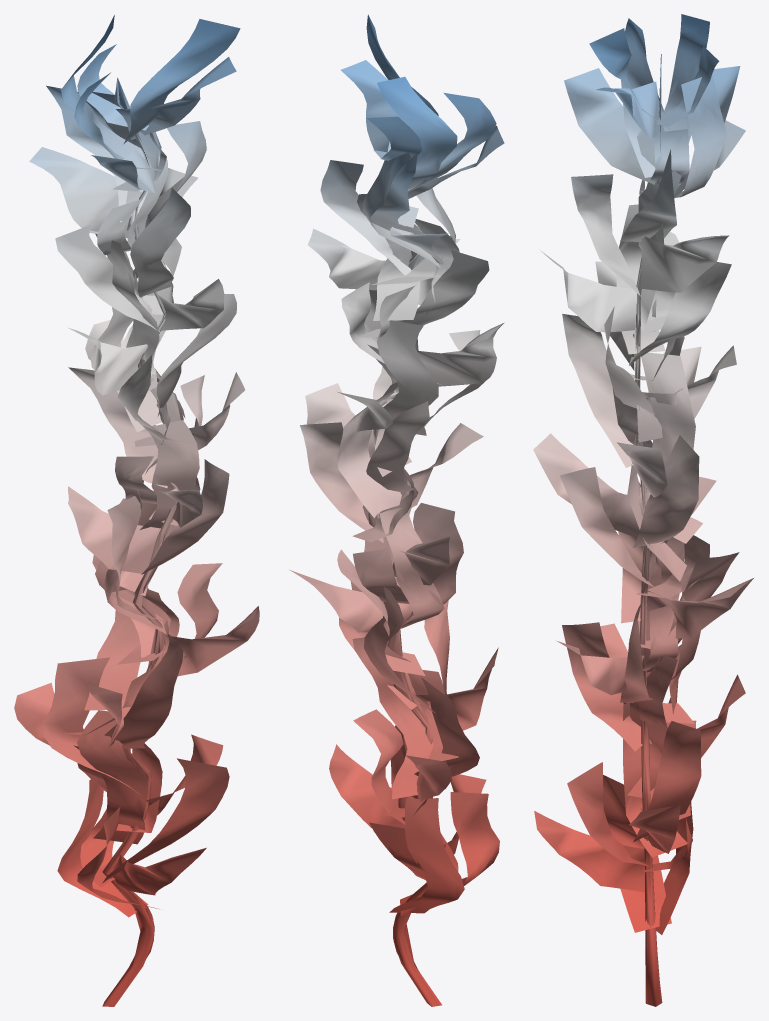
Rendered from test_shape_key_anim1.fbx.
3 views of the same model, side by side, from view 1: azimuth 30°, elevation 25°; view 2: azimuth 150°, elevation 25°; view 3: azimuth 270°, elevation 25° (orthographic). The views are drawn at different scales.
Visible parts, largest first — view 1: SeaWeed06_medium.001; view 2: SeaWeed06_medium.001; view 3: SeaWeed06_medium.001.
Boxes of the visible parts, x1,y1,x2,y2 form: SeaWeed06_medium.001: (14, 15, 259, 1006); SeaWeed06_medium.001: (289, 14, 504, 1006); SeaWeed06_medium.001: (533, 14, 753, 1006).
Bounding box in the file's own units: 435 × 2176 × 431.
